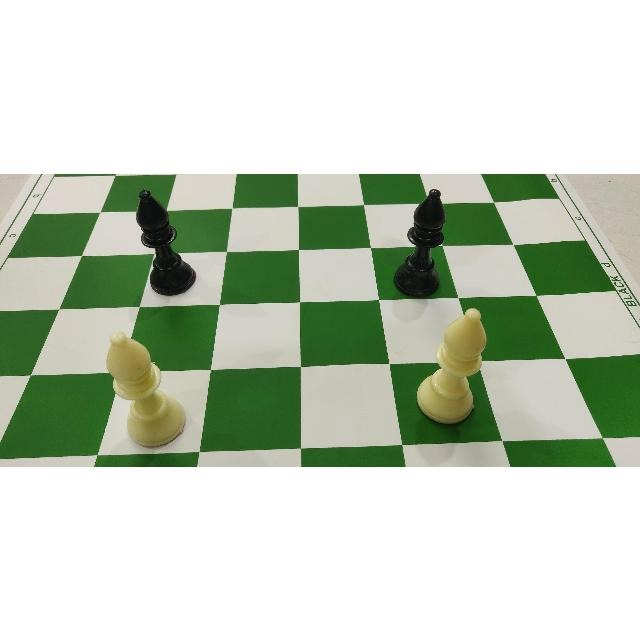black-bishop: (133, 184, 196, 295), (392, 188, 447, 298)
white-bishop: (105, 327, 187, 448), (413, 304, 489, 425)
